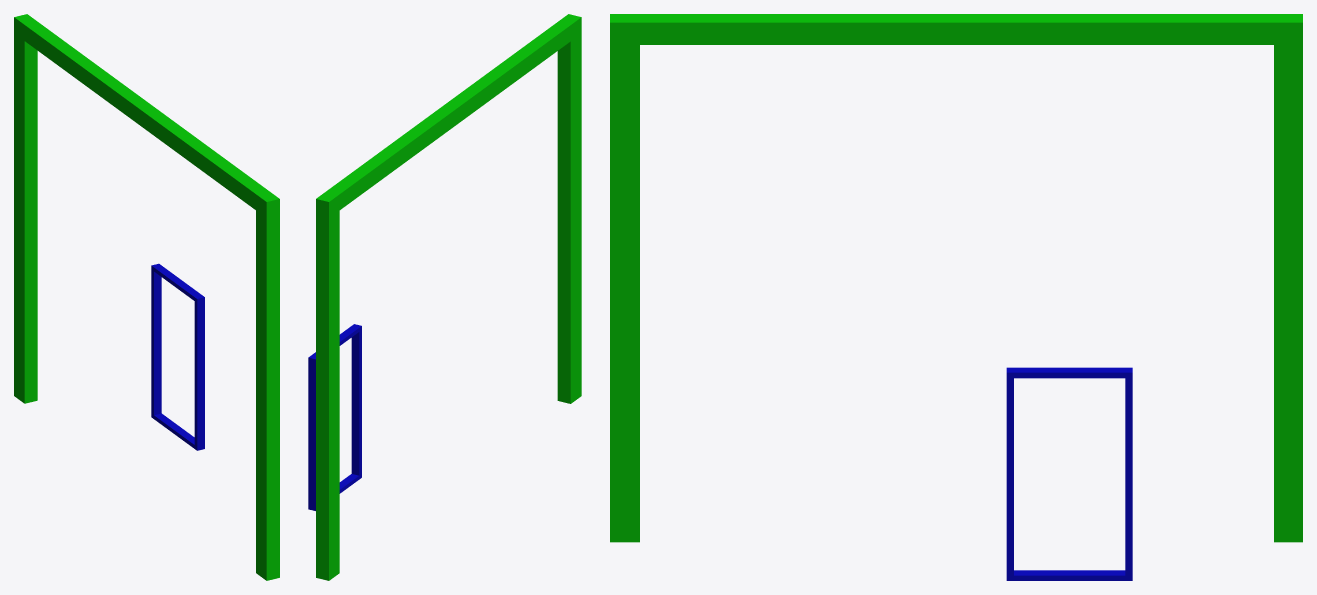
The model's file is Door_stand.fbx.
3 views of the same model, side by side, from view 1: azimuth 30°, elevation 25°; view 2: azimuth 150°, elevation 25°; view 3: azimuth 270°, elevation 25° (orthographic). The views are drawn at different scales.
Parts seen in each view (by area): view 1: Door_Frame_Stand; view 2: Door_Frame_Stand; view 3: Door_Frame_Stand.
Boxes of the visible parts, box(x1,y1,x2,y2) form: Door_Frame_Stand: box(14, 14, 279, 580); Door_Frame_Stand: box(308, 14, 581, 580); Door_Frame_Stand: box(610, 14, 1302, 580).
Size of the model in its own units: 139 by 608 by 735.
